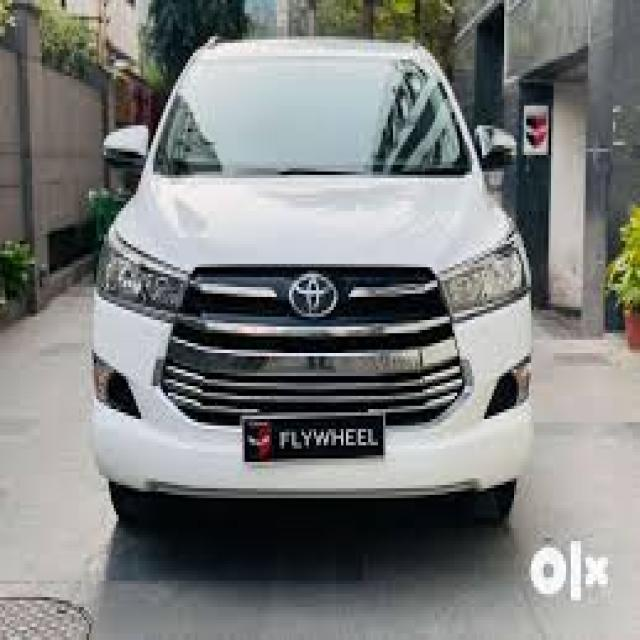light_vehicle: (90, 39, 533, 542)
